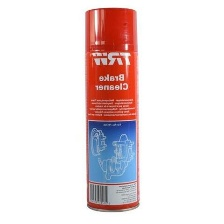aerosol_cans: (83, 3, 142, 214)
